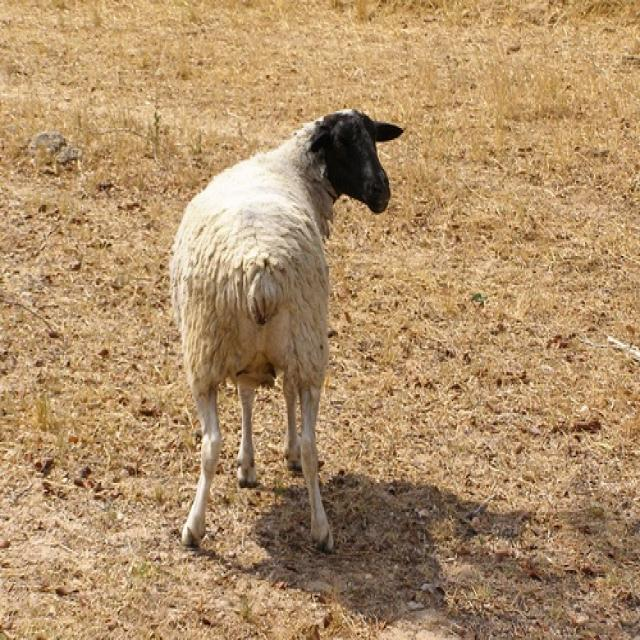sheep: (170, 108, 403, 551)
